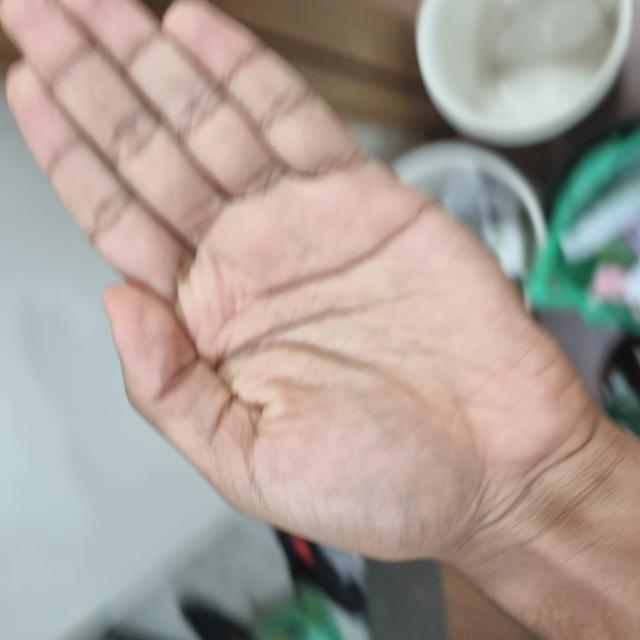Paper: (81, 107, 503, 583)
